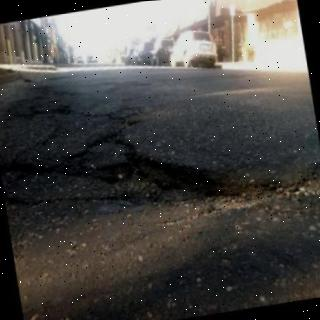pothole: (92, 153, 320, 216)
